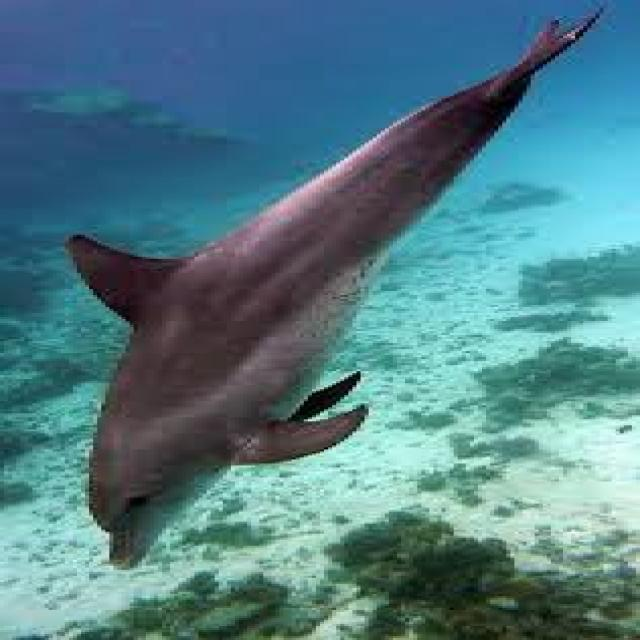dolphin: (28, 4, 620, 584)
